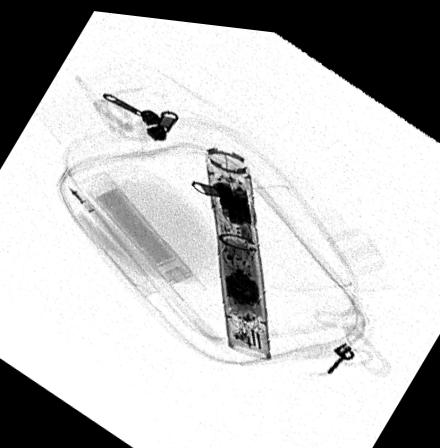Baton: (205, 140, 272, 354)
